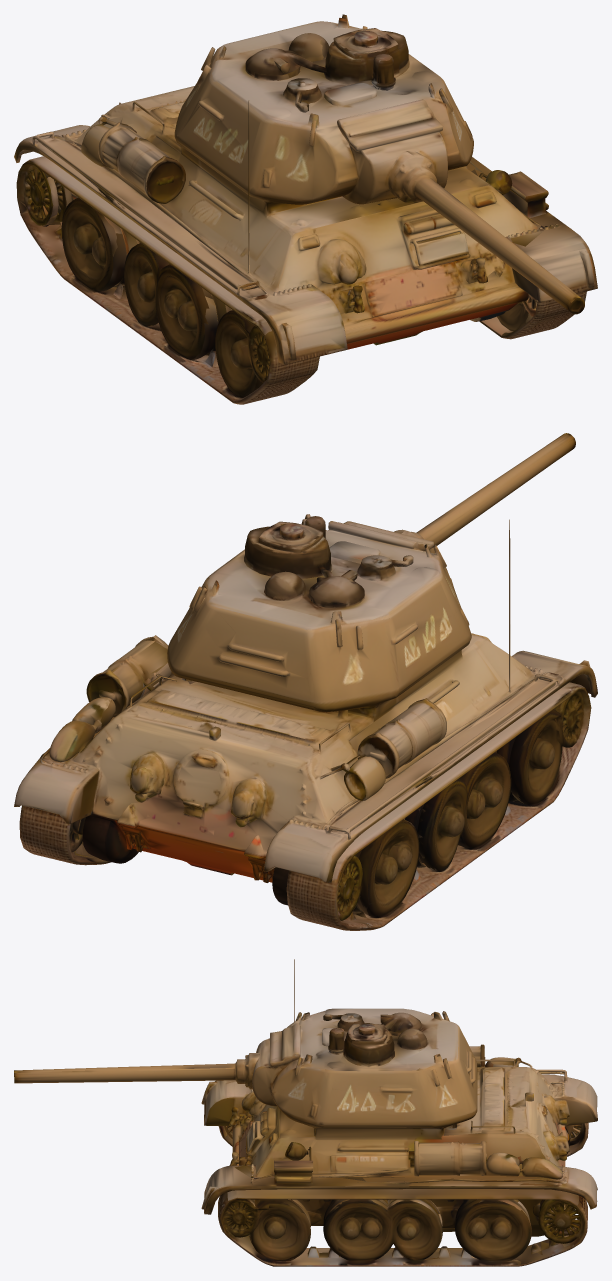
File: t34-85_textured_yellow.glb
3 renders of one model, top to bottom at view 1: azimuth 30°, elevation 25°; view 2: azimuth 150°, elevation 25°; view 3: azimuth 270°, elevation 25°, orthographic. The views are drawn at different scales.
Visible parts, largest first — view 1: texture_pbr_v128; view 2: texture_pbr_v128; view 3: texture_pbr_v128.
Part boxes in pixels (left/top/right/bottom): texture_pbr_v128: left=14, top=14, right=597, bottom=404; texture_pbr_v128: left=14, top=433, right=597, bottom=930; texture_pbr_v128: left=14, top=959, right=597, bottom=1266.
Size of the model in its own units: 0.5007 by 0.4274 by 1.09.
Materials: 1 (1 with a texture image).
